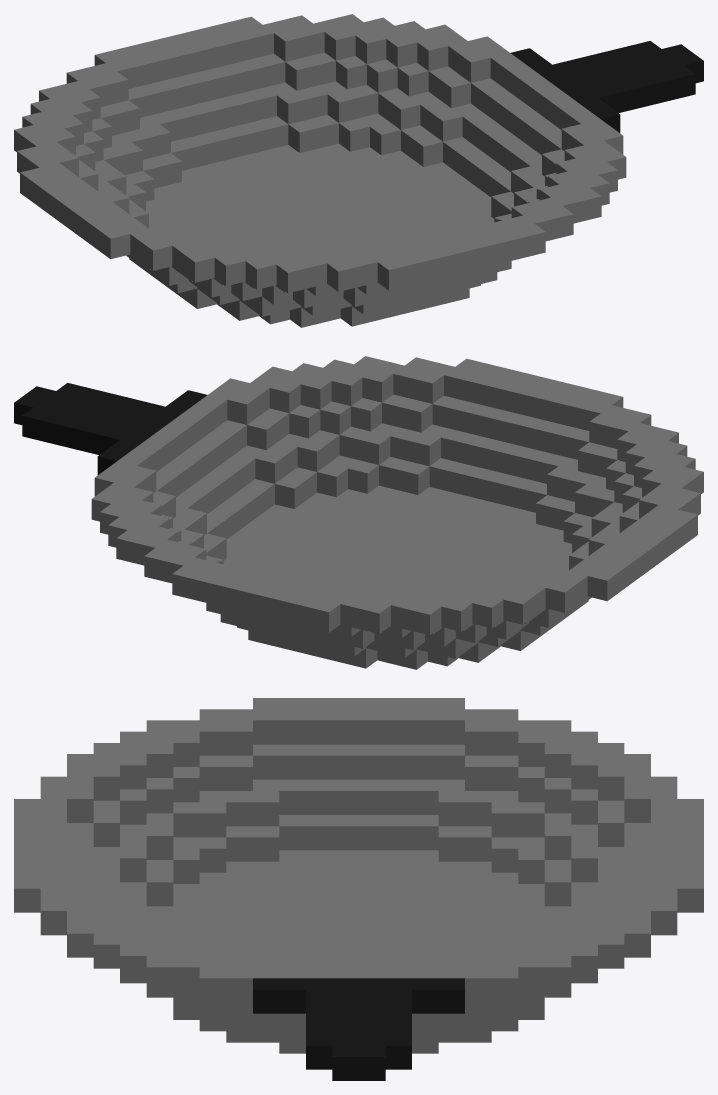
The model's file is NewPan.obj.
The picture shows the model from 3 angles, top to bottom: view 1: azimuth 30°, elevation 25°; view 2: azimuth 150°, elevation 25°; view 3: azimuth 270°, elevation 25°; orthographic projection. The views are drawn at different scales.
Size of the model in its own units: 3.2 by 0.5 by 2.6.
1 material, 1 textured.
